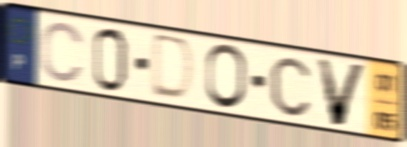0: (91, 26, 132, 94)
C: (40, 19, 87, 85), (267, 54, 312, 119)
D: (148, 31, 198, 105)
O: (203, 41, 249, 113)
V: (313, 55, 371, 130)
